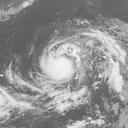cyclone: (38, 40, 81, 84)
